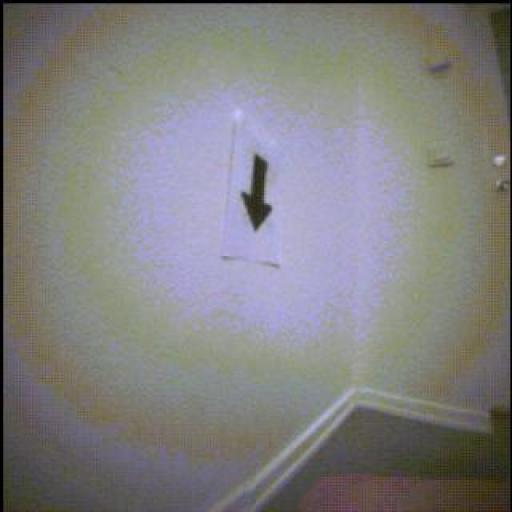arrow: (243, 157, 273, 232)
